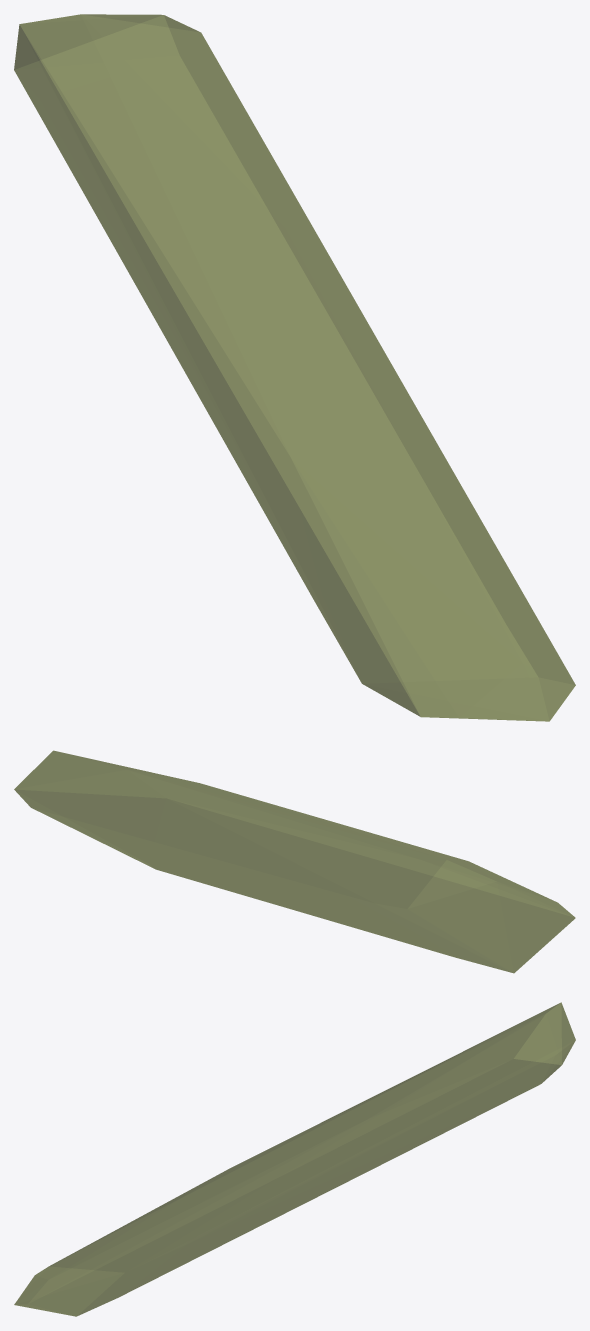
The picture shows the model from 3 angles, top to bottom: view 1: azimuth 30°, elevation 25°; view 2: azimuth 150°, elevation 25°; view 3: azimuth 270°, elevation 25°; orthographic projection. The views are drawn at different scales.
Parts seen in each view (by area): view 1: Shape_IndexedFaceSet.051_Shape_IndexedFaceSet.9859; view 2: Shape_IndexedFaceSet.051_Shape_IndexedFaceSet.9859; view 3: Shape_IndexedFaceSet.051_Shape_IndexedFaceSet.9859.
Boxes of the visible parts, bbox=[...] form: Shape_IndexedFaceSet.051_Shape_IndexedFaceSet.9859: bbox=[14, 14, 575, 721]; Shape_IndexedFaceSet.051_Shape_IndexedFaceSet.9859: bbox=[14, 750, 575, 973]; Shape_IndexedFaceSet.051_Shape_IndexedFaceSet.9859: bbox=[14, 1002, 575, 1316].
Bounding box in the file's own units: 0.0888 × 0.2464 × 0.46.
